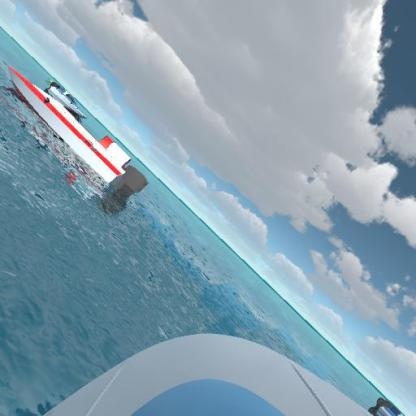usv1: (43, 80, 97, 121), (370, 392, 410, 416)
usv3: (0, 64, 154, 196)
